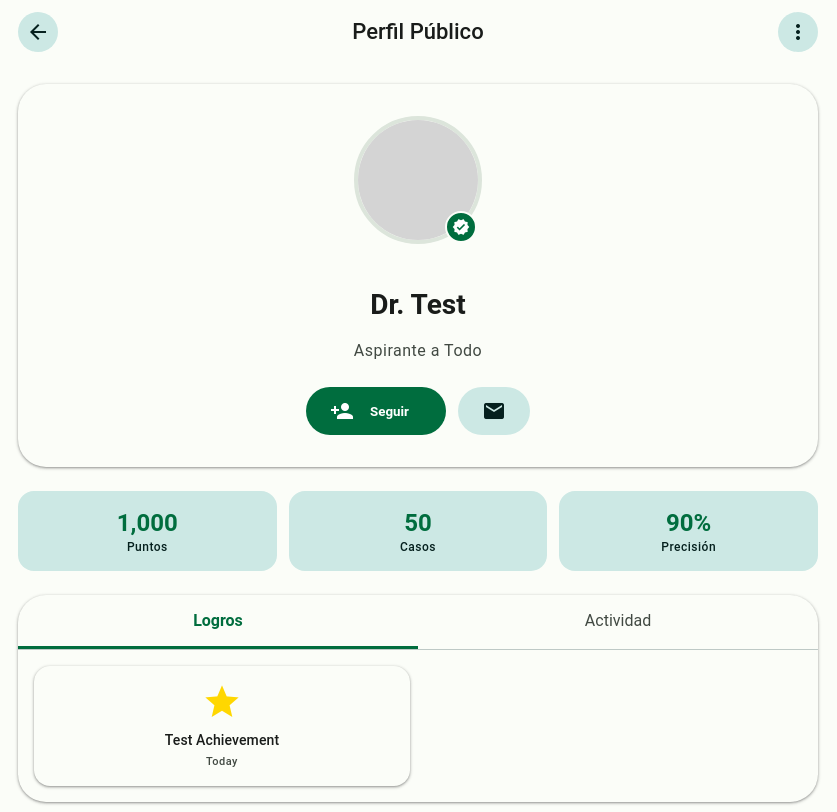
Scenario: V2PublicProfile › toggles follow button state
Click the button "Seguir".
click(376, 411)  # box [306,387,446,435]
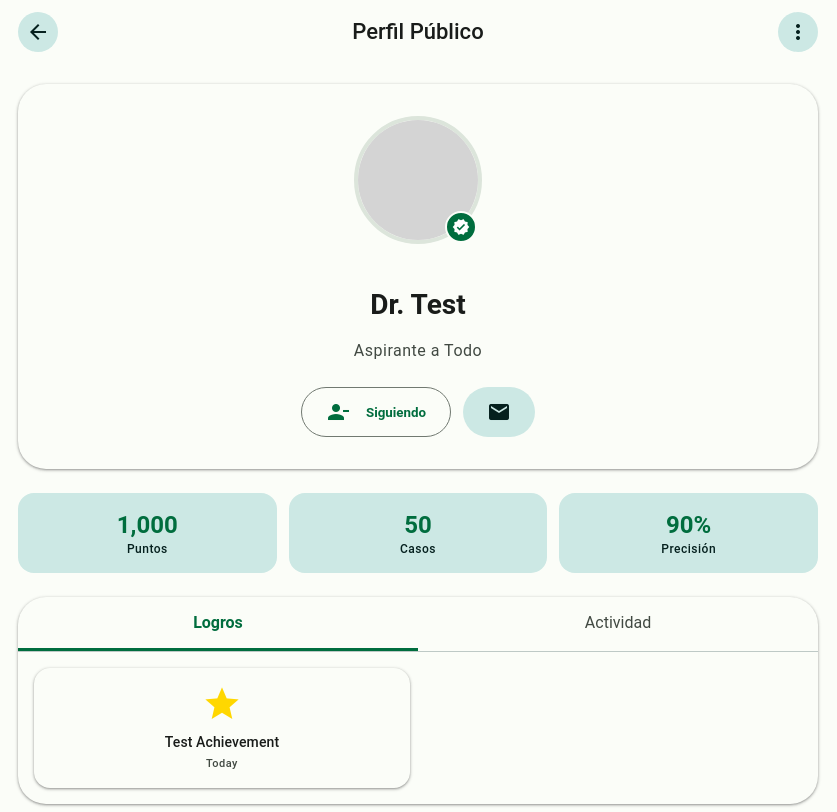
Check: the button "Siguiendo" is shown
Click the button "Siguiendo".
click(376, 412)  # box [301,387,451,437]
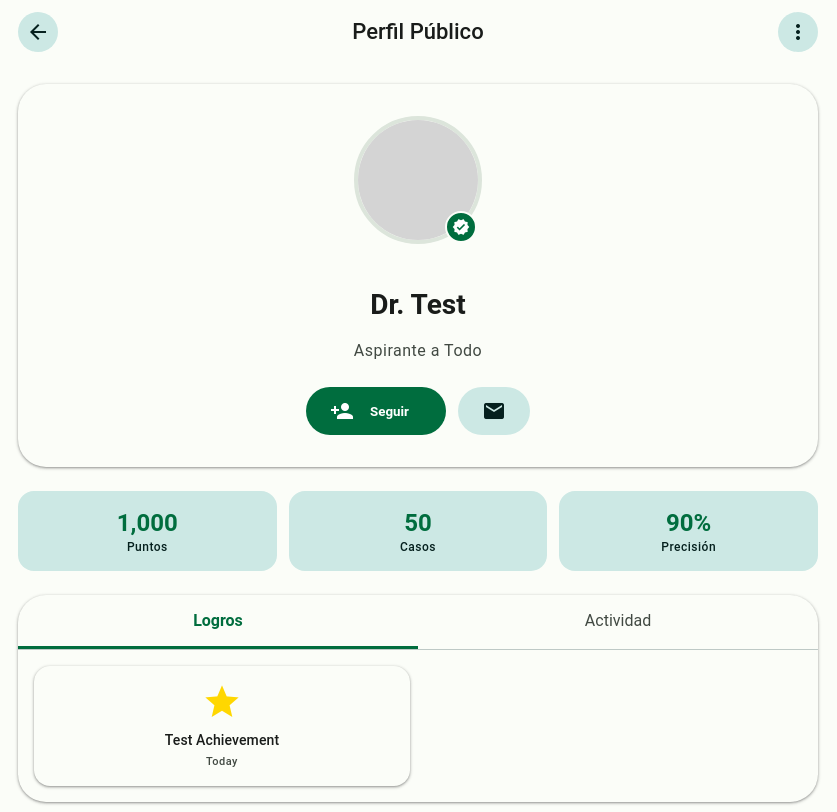
Check: the button "Seguir" is shown, box [306,387,446,435]
